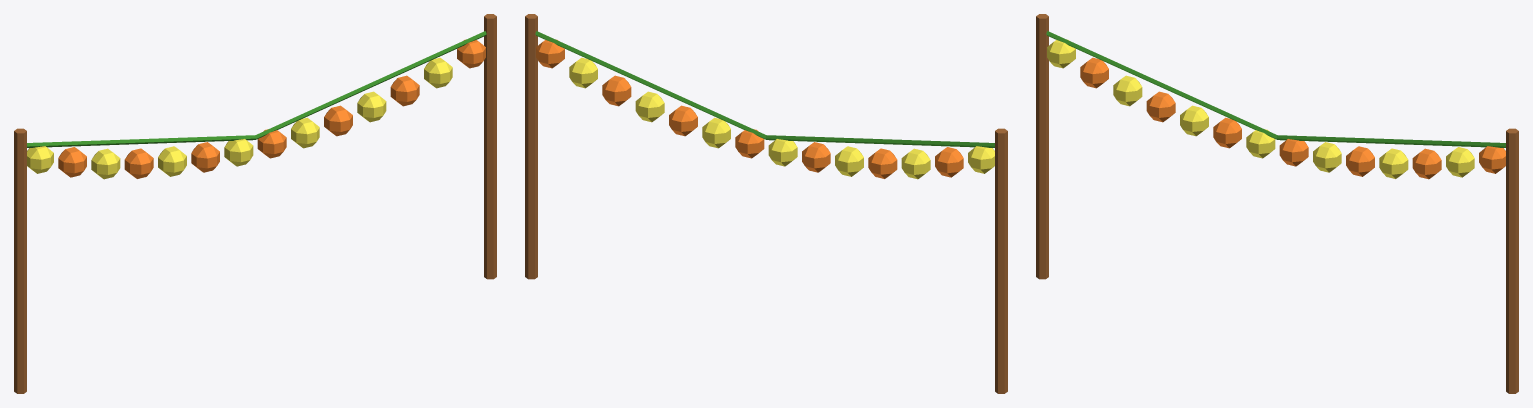
The model's file is MarigoldGarland.fbx.
3 renders of one model, left to right at view 1: azimuth 30°, elevation 25°; view 2: azimuth 150°, elevation 25°; view 3: azimuth 330°, elevation 25°, orthographic.
Visible parts, largest first — view 1: MarigoldGarland; view 2: MarigoldGarland; view 3: MarigoldGarland.
Boxes of the visible parts, x1,y1,x2,y2 form: MarigoldGarland: [14, 14, 496, 393]; MarigoldGarland: [525, 14, 1007, 393]; MarigoldGarland: [1036, 14, 1518, 393].
Size of the model in its own units: 10.21 by 5.3 by 0.5.
1 material, 1 textured.
